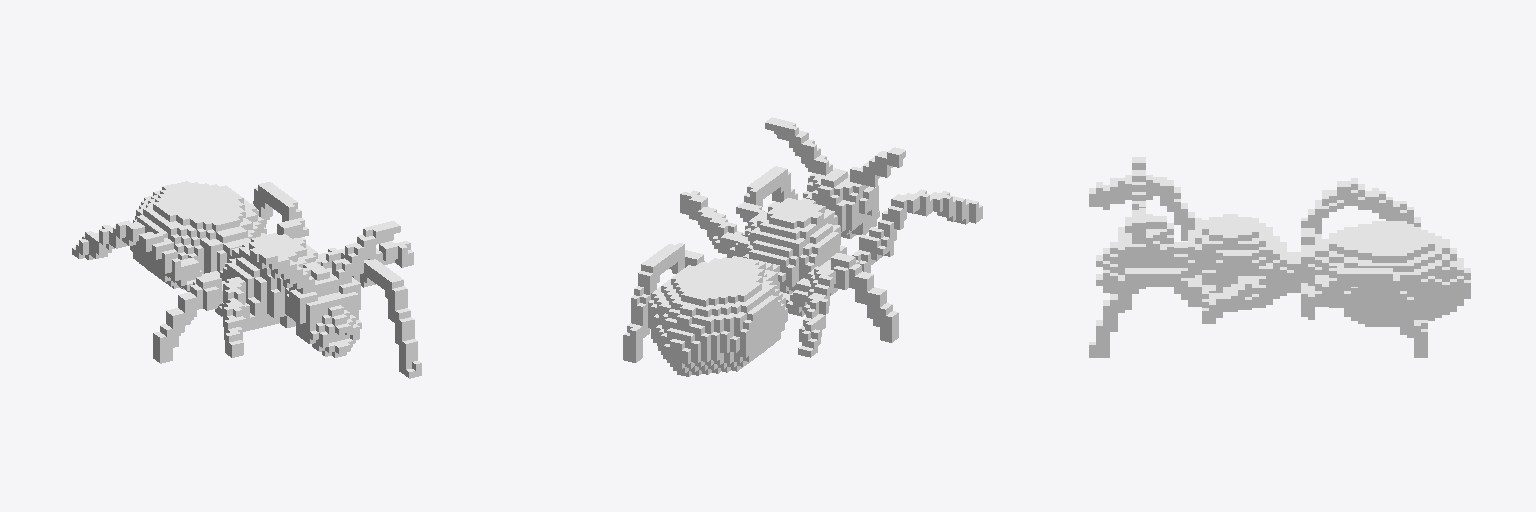
File: ant_walk_v1-1.obj
3 renders of one model, left to right at view 1: azimuth 30°, elevation 25°; view 2: azimuth 150°, elevation 25°; view 3: azimuth 270°, elevation 25°, orthographic.
Visible parts, largest first — view 1: object 1; view 2: object 1; view 3: object 1.
Boxes of the visible parts, box(x1,y1,x2,y2) form: object 1: box(72, 181, 421, 378); object 1: box(623, 117, 982, 376); object 1: box(1089, 157, 1470, 357).
Size of the model in its own units: 3.9 by 2.1 by 5.4.